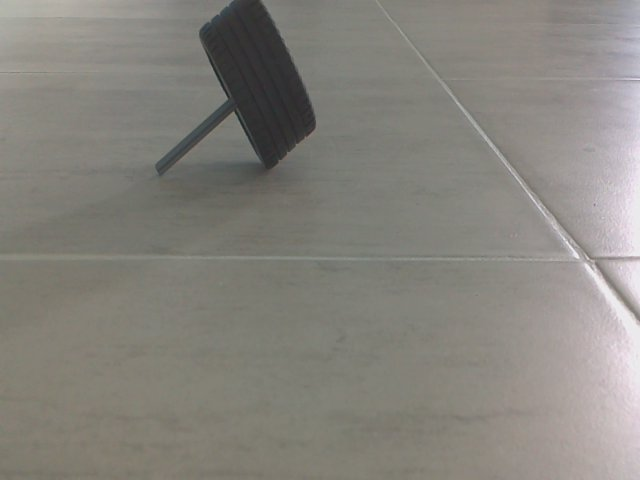Rad+Grau_lang: (148, 3, 318, 190)
